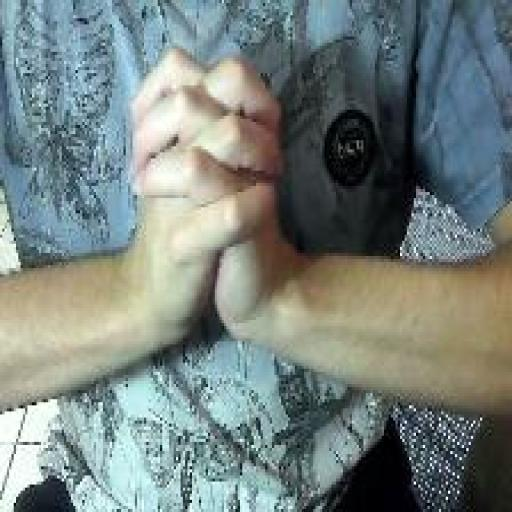Mi -snake-: (128, 42, 288, 354)
